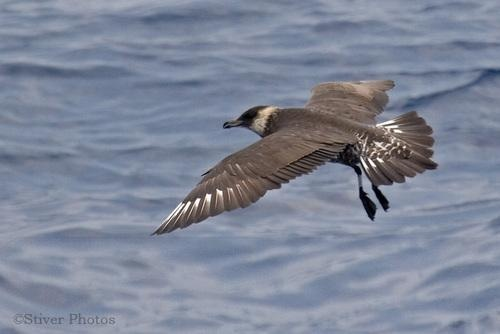bird: (147, 77, 438, 241)
